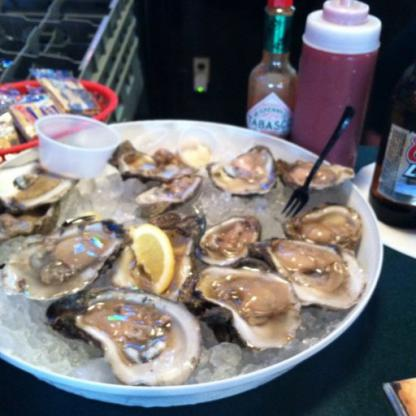oyster: (53, 285, 195, 387), (190, 259, 300, 348), (9, 221, 122, 300), (258, 235, 368, 314), (206, 144, 277, 196)
